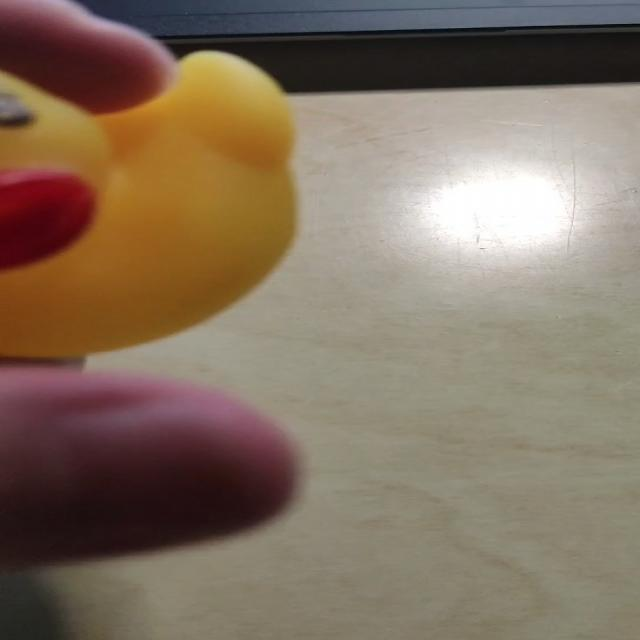rubber-duck: (0, 51, 293, 356)
